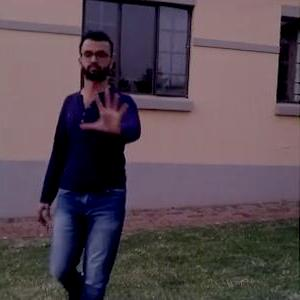follow_hand: (79, 84, 135, 139)
